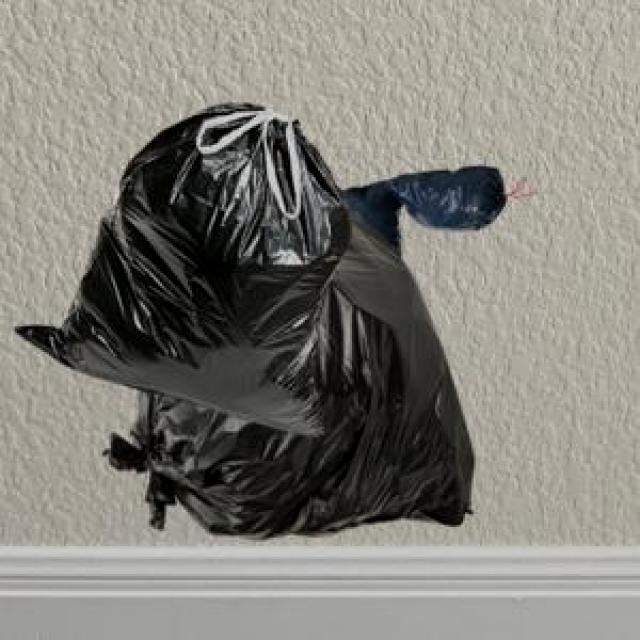Trashbag: (17, 92, 363, 440)
